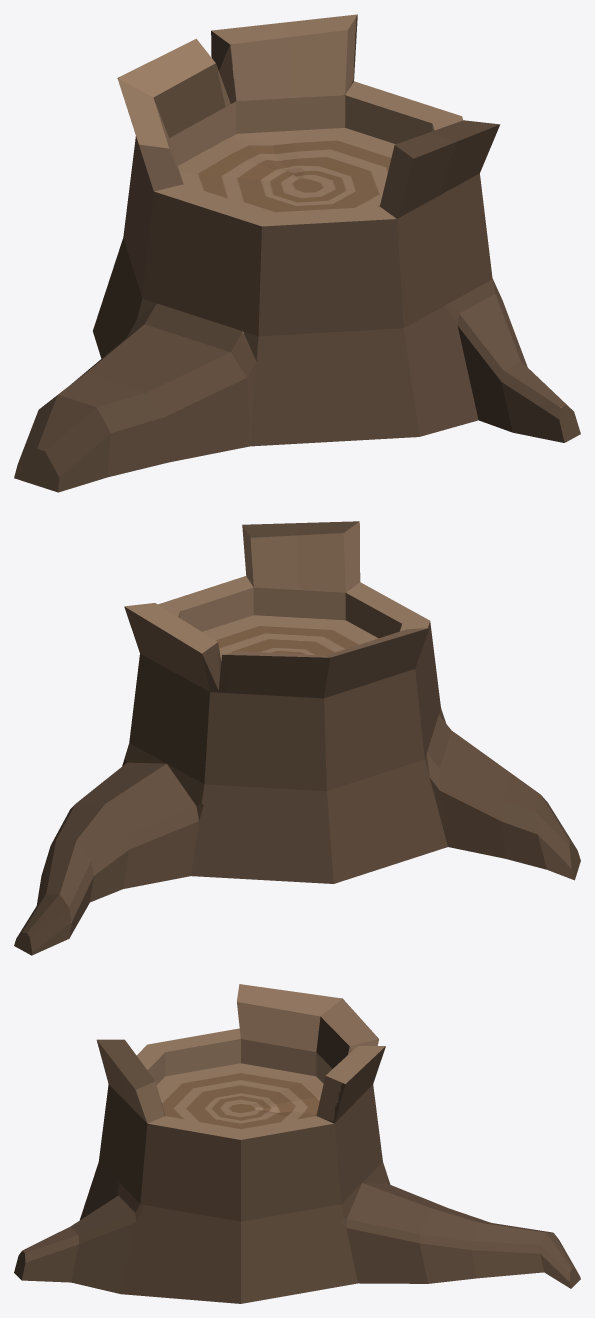
Rendered from stump.glb.
3 views of the same model, one above another, from view 1: azimuth 30°, elevation 25°; view 2: azimuth 150°, elevation 25°; view 3: azimuth 270°, elevation 25° (orthographic). The views are drawn at different scales.
Visible parts, largest first — view 1: Circle; view 2: Circle; view 3: Circle.
Part boxes in pixels (left/top/right/bottom): Circle: left=14, top=14, right=580, bottom=492; Circle: left=14, top=521, right=580, bottom=955; Circle: left=14, top=984, right=580, bottom=1303.
Bounding box in the file's own units: 1.67 × 0.9123 × 2.15.
1 material, 1 textured.
